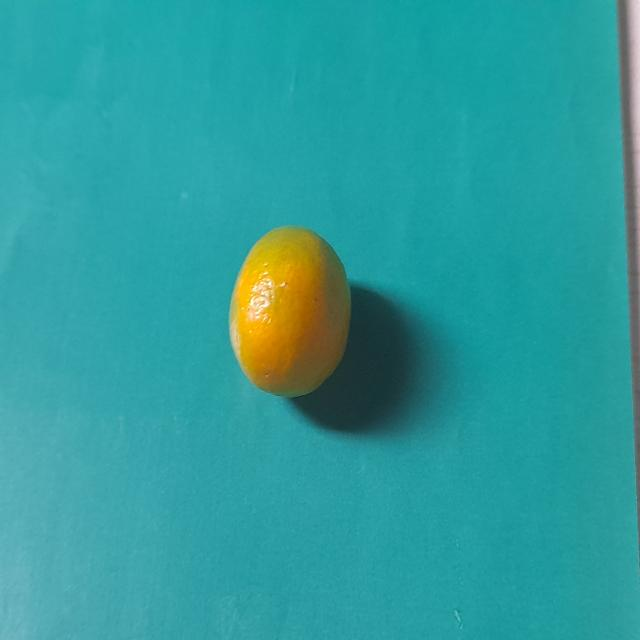greening: (226, 225, 346, 406)
